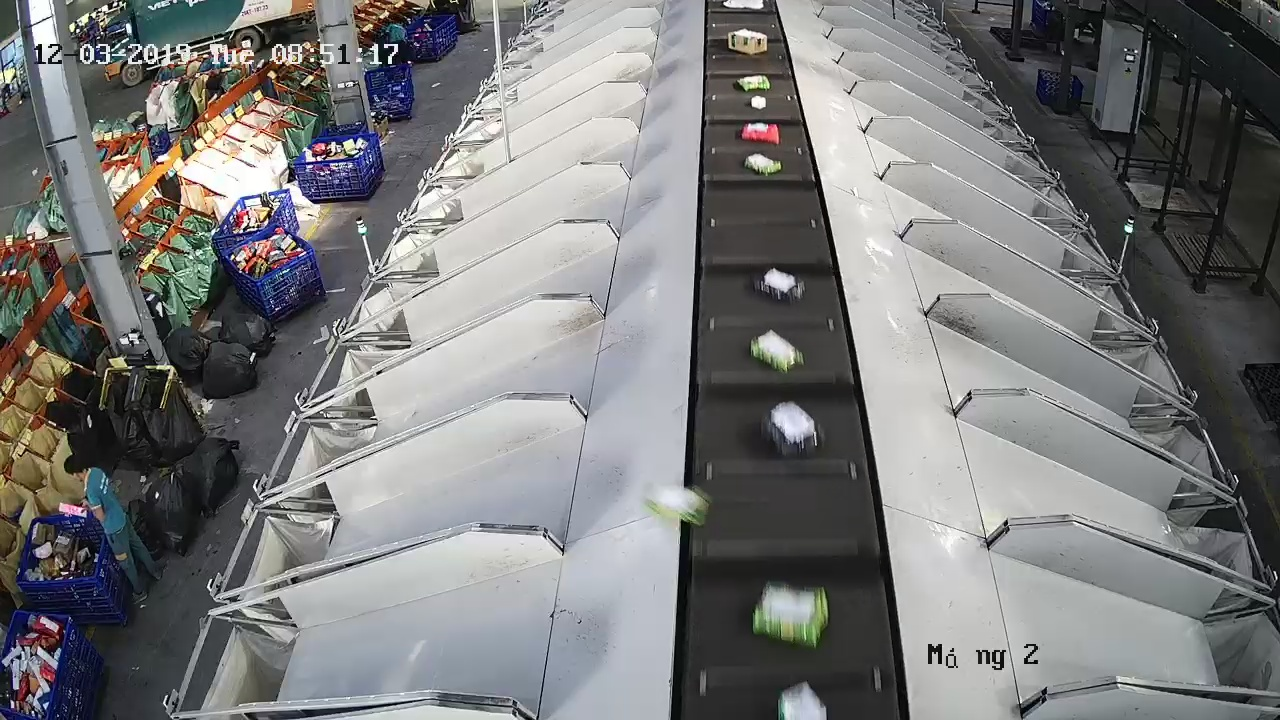parcel: (751, 579, 831, 651), (758, 398, 828, 461), (642, 481, 714, 528), (748, 327, 806, 376), (751, 264, 807, 306), (741, 150, 784, 177), (739, 121, 783, 147)
